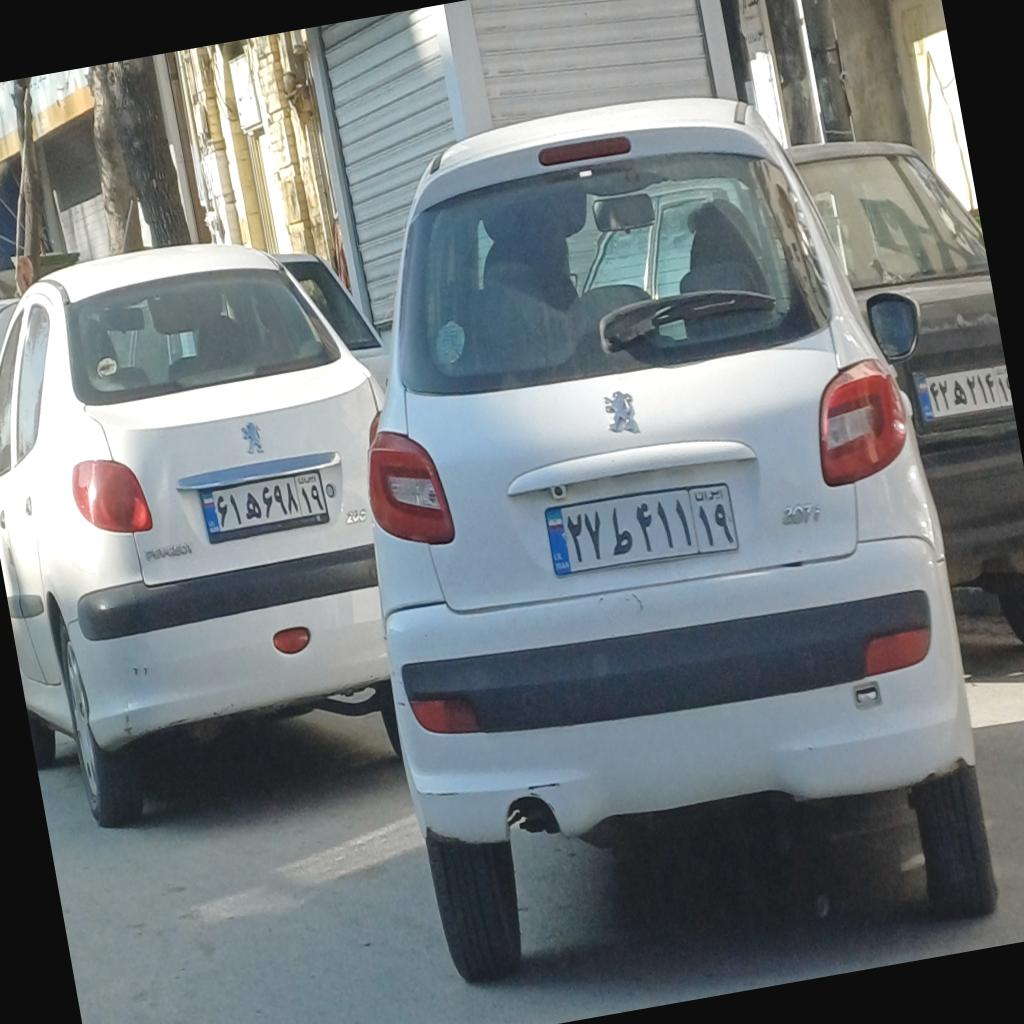Plates: (541, 468, 742, 588), (199, 466, 332, 545)
